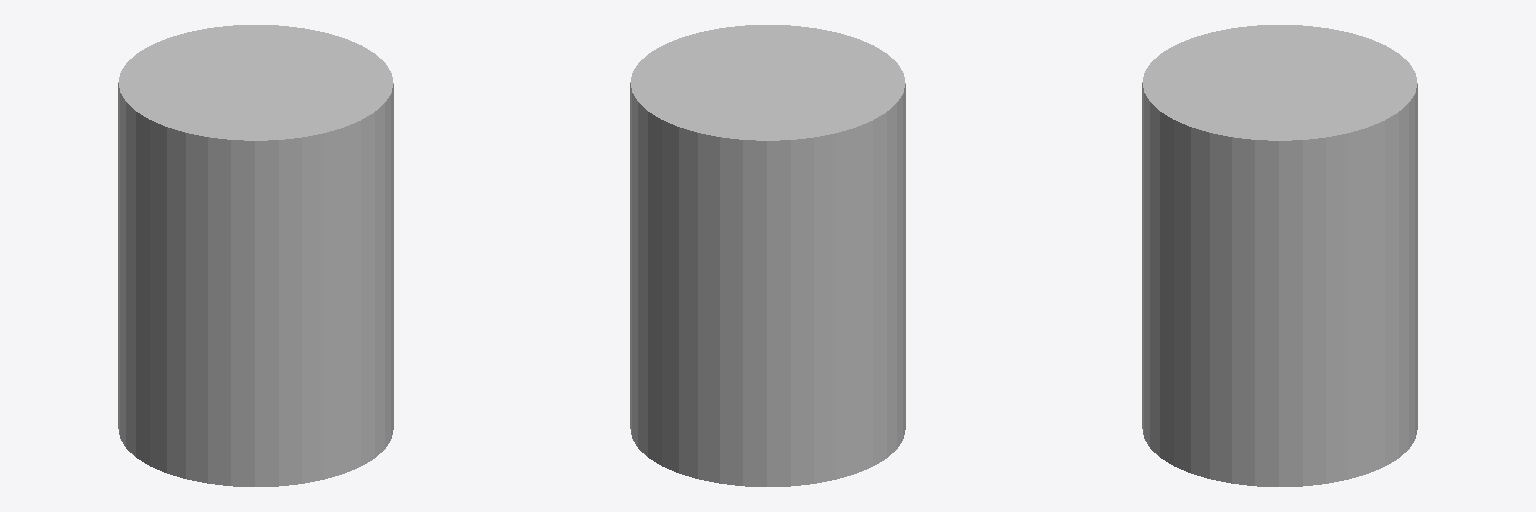
Rendered from original-39.obj.
3 views of the same model, side by side, from view 1: azimuth 30°, elevation 25°; view 2: azimuth 150°, elevation 25°; view 3: azimuth 270°, elevation 25° (orthographic).
Visible parts, largest first — view 1: group_12/ID172#ID172; view 2: group_12/ID172#ID172; view 3: group_12/ID172#ID172.
Part boxes in pixels (bbox=[...]): group_12/ID172#ID172: bbox=[118, 25, 393, 486]; group_12/ID172#ID172: bbox=[630, 25, 905, 486]; group_12/ID172#ID172: bbox=[1142, 25, 1417, 486].
Bounding box in the file's own units: 0.0558 × 0.0775 × 0.0558.